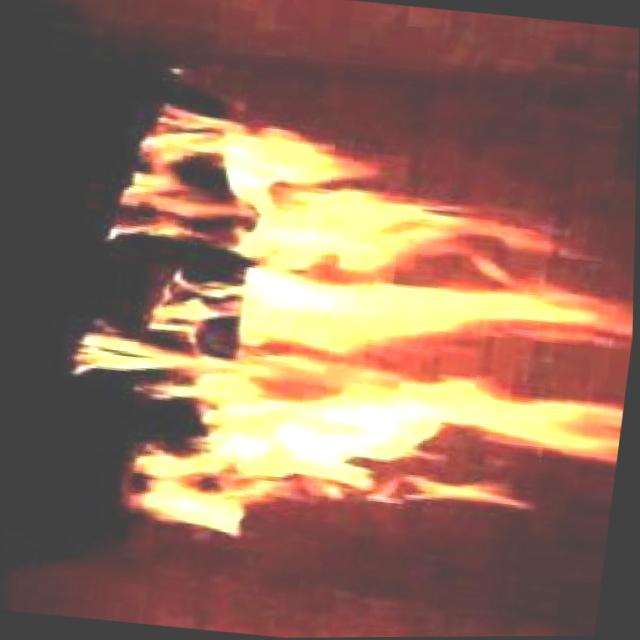Fire: (37, 67, 639, 586)
